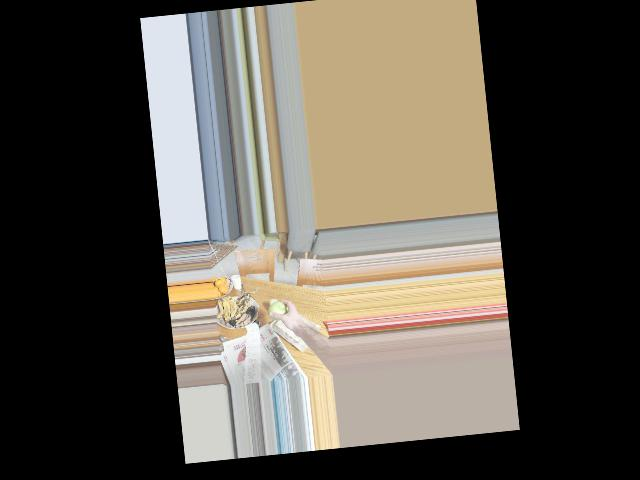apple: (267, 299, 289, 322)
